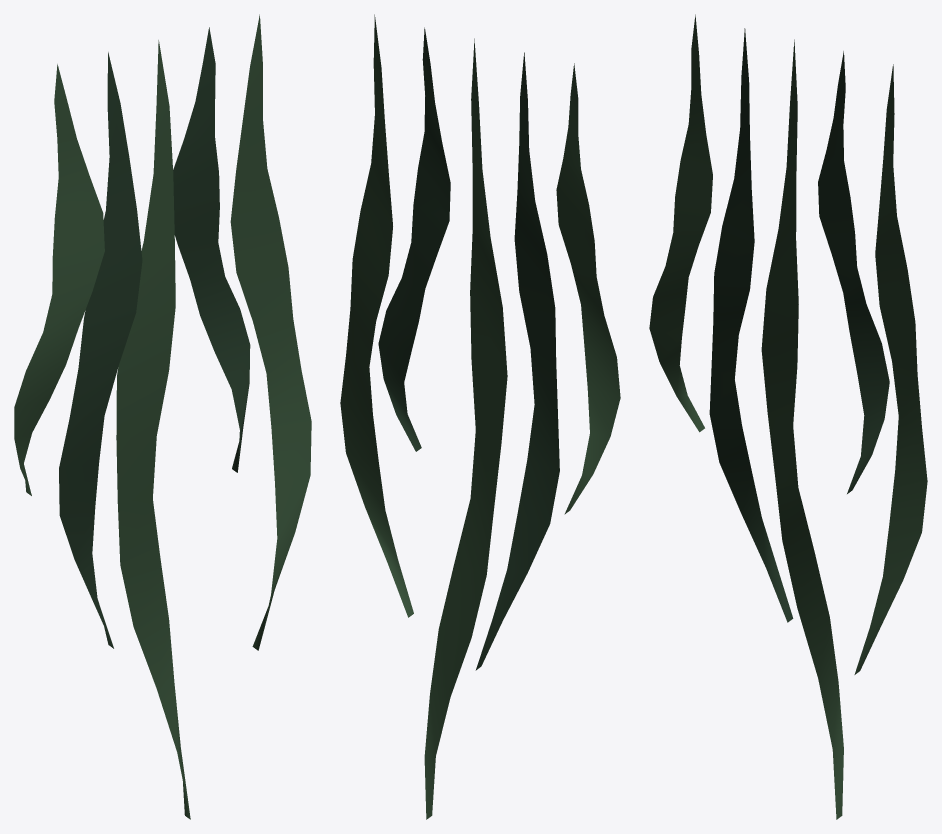
The model's file is mia-seaweed.glb.
The picture shows the model from 3 angles, left to right: view 1: azimuth 30°, elevation 25°; view 2: azimuth 150°, elevation 25°; view 3: azimuth 330°, elevation 25°; orthographic projection. The views are drawn at different scales.
Parts seen in each view (by area): view 1: Body_seaweed-green, Body_seaweed-dark; view 2: Body_seaweed-green, Body_seaweed-dark; view 3: Body_seaweed-green, Body_seaweed-dark.
Part boxes in pixels (x1,y1,x2,y2): Body_seaweed-green: (14,14,311,819); Body_seaweed-dark: (59,27,250,648); Body_seaweed-green: (340,14,620,819); Body_seaweed-dark: (378,27,559,670); Body_seaweed-green: (649,14,927,819); Body_seaweed-dark: (709,28,889,622).
Bounding box in the file's own units: 0.3449 × 0.9 × 0.09.
